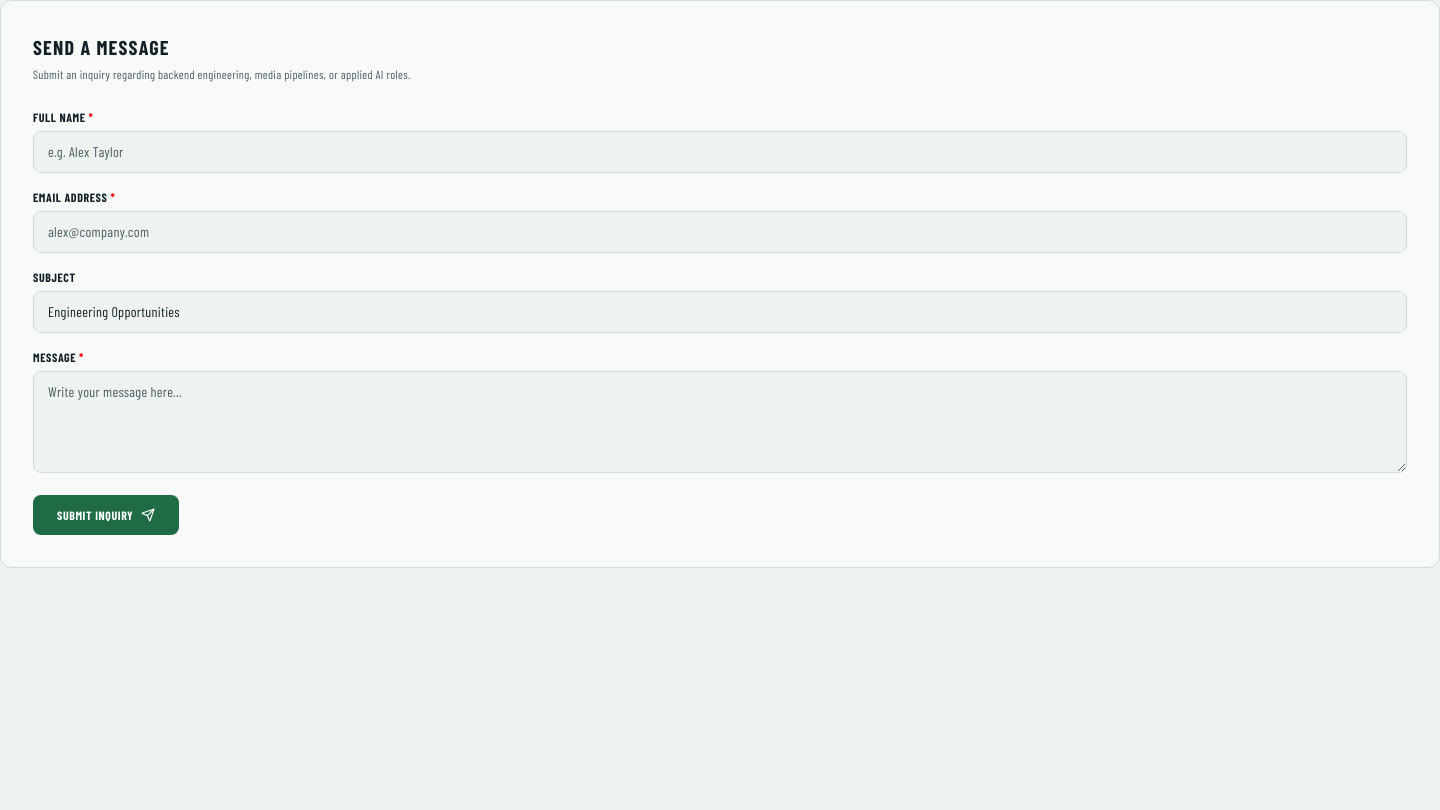
Test: ContactForm Component › displays validation error alerts when submitting an empty form
Click the button "Submit Inquiry" at x=106, y=514, box [33, 494, 179, 534]
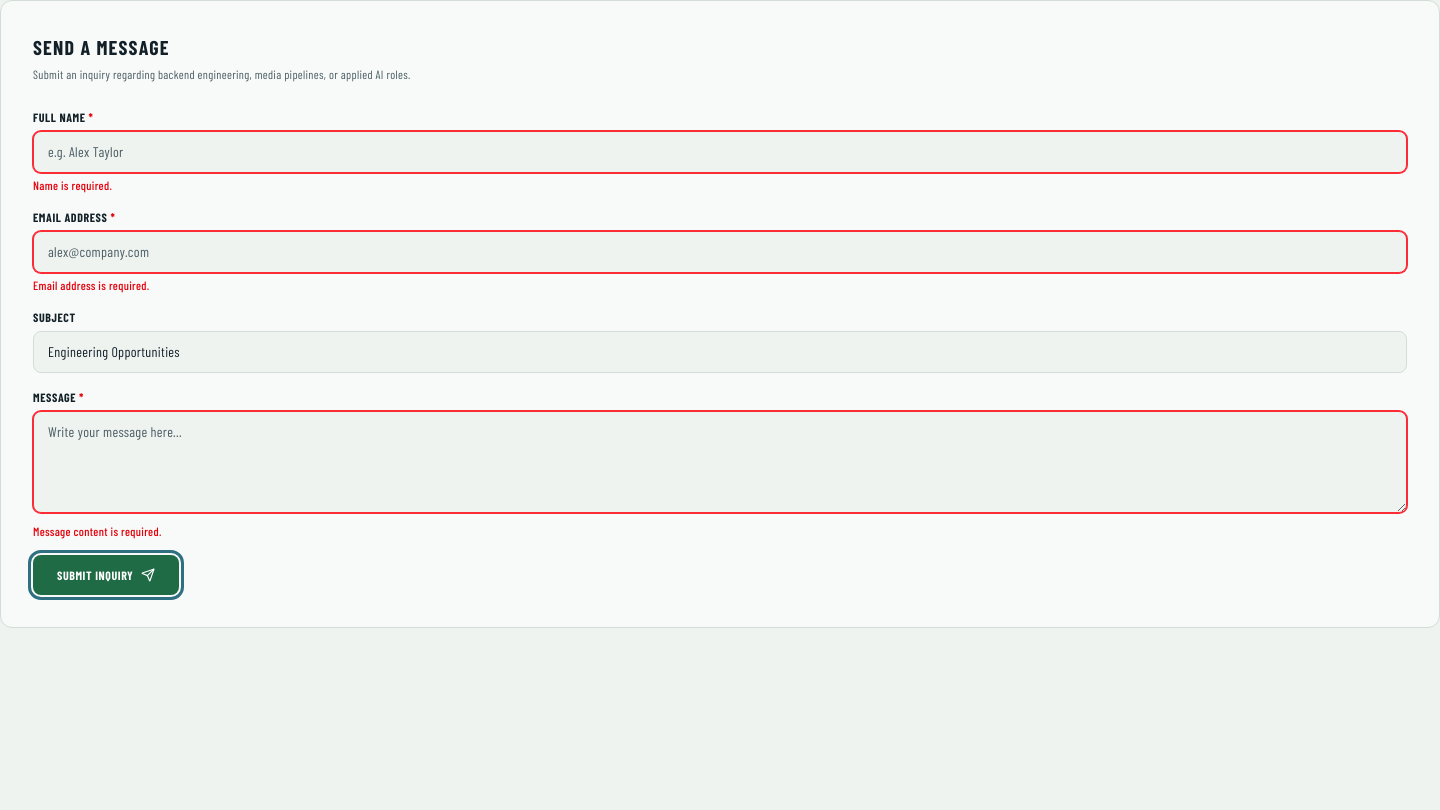
Check: the text "Name is required." is shown, box [33, 178, 112, 192]
Check: the text "Email address is required." is shown, box [33, 278, 150, 292]
Check: the text "Message content is required." is shown, box [33, 524, 162, 538]
